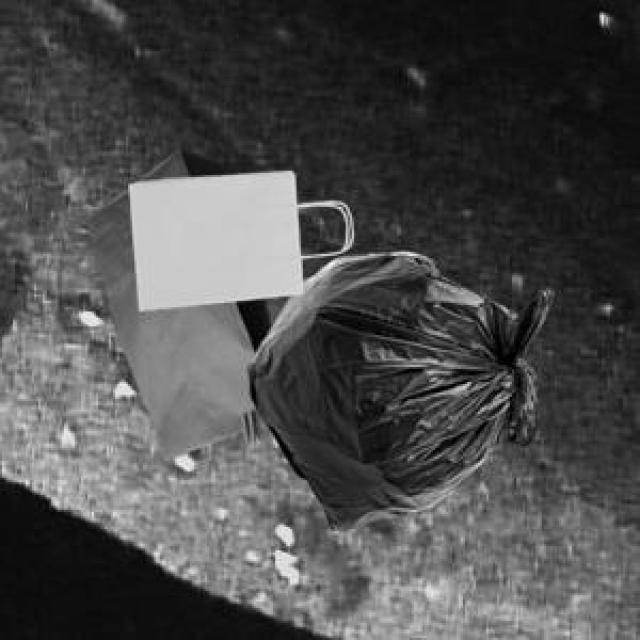miscellaneous trash: (243, 248, 548, 527)
paper: (81, 147, 267, 457), (126, 166, 346, 307)
